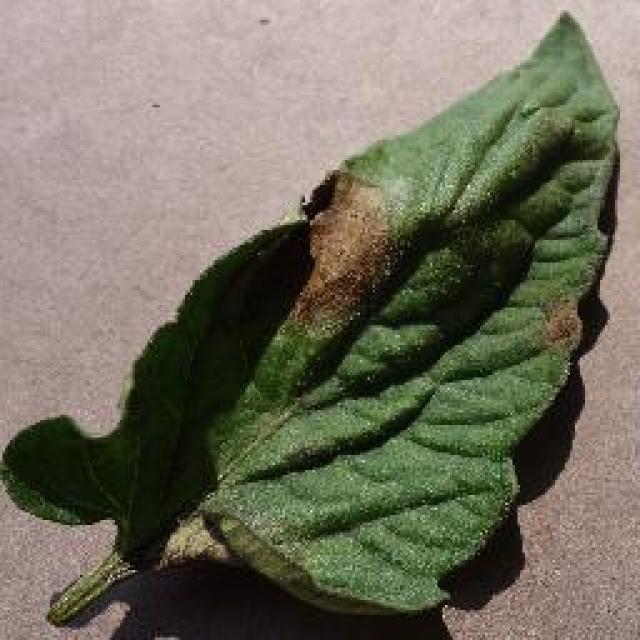Tomato___Late_blight: (0, 12, 620, 628)
